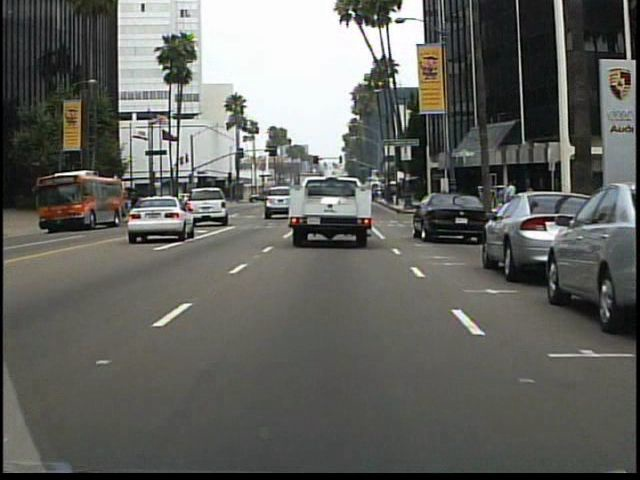person: (502, 178, 520, 218)
